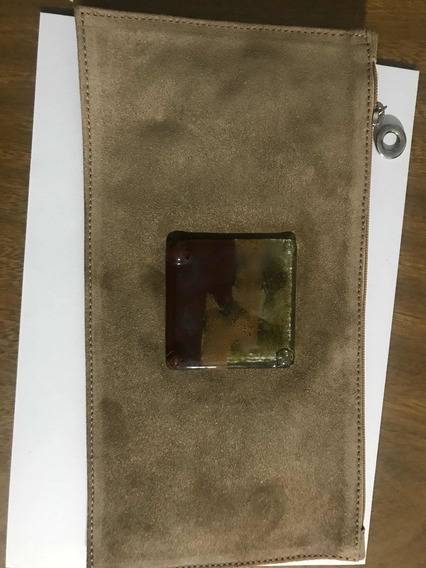cartera: (72, 7, 379, 568)
